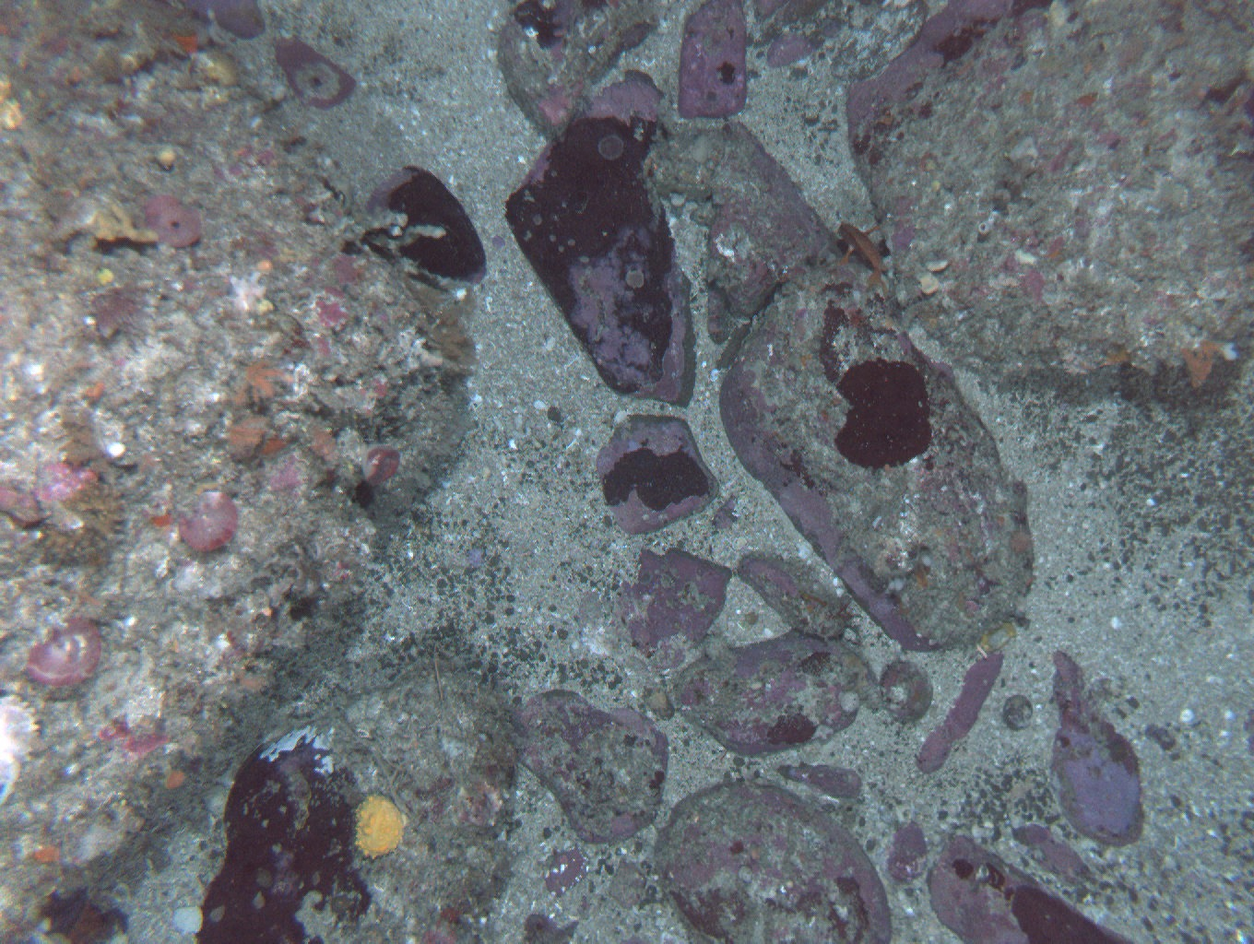Brachionichthyidae: (836, 221, 893, 288)
